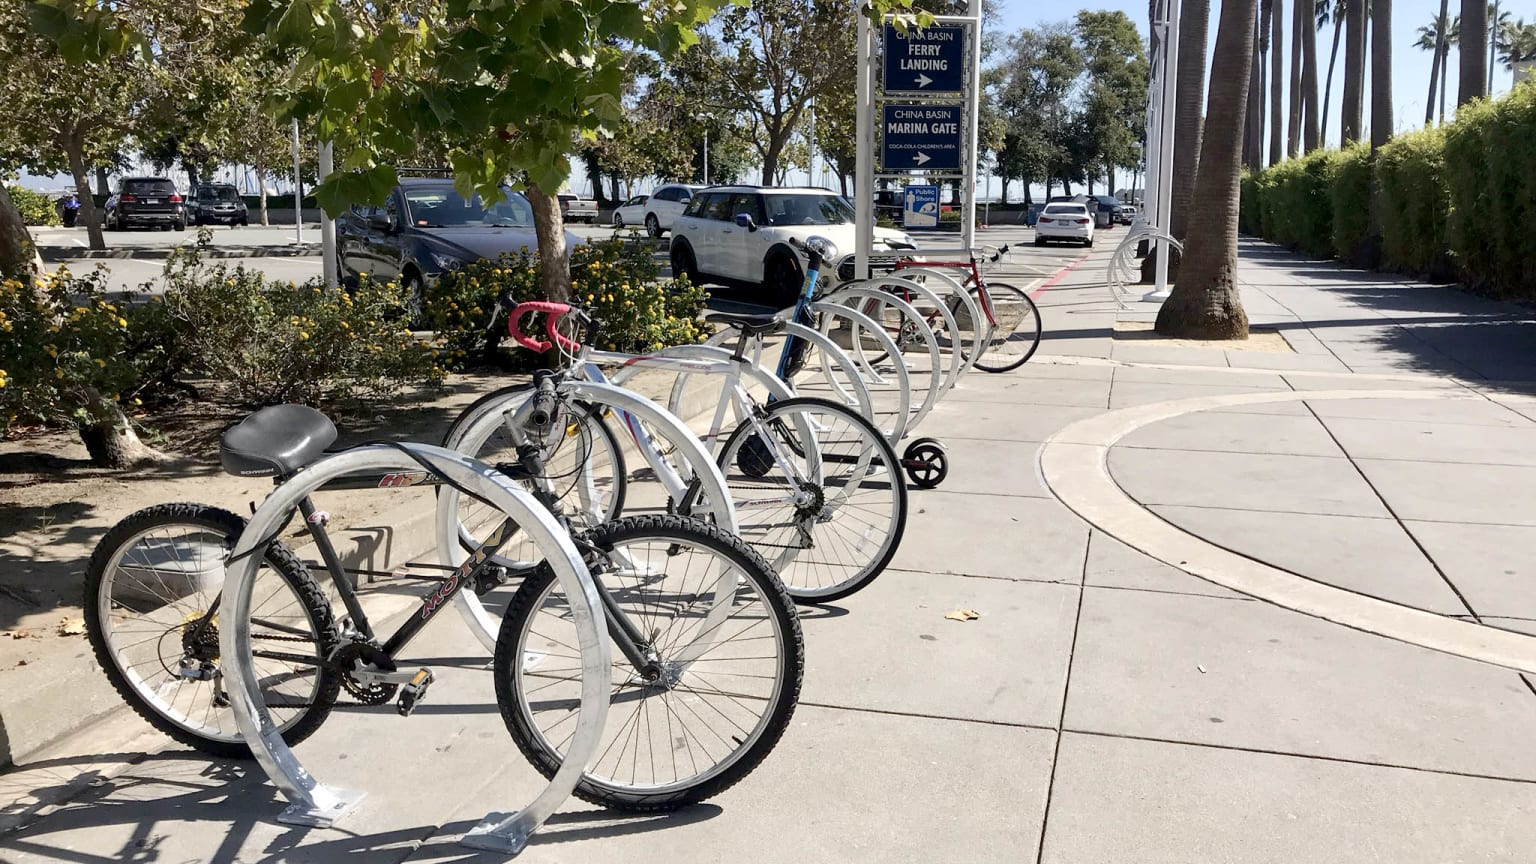bike: (77, 384, 842, 826)
